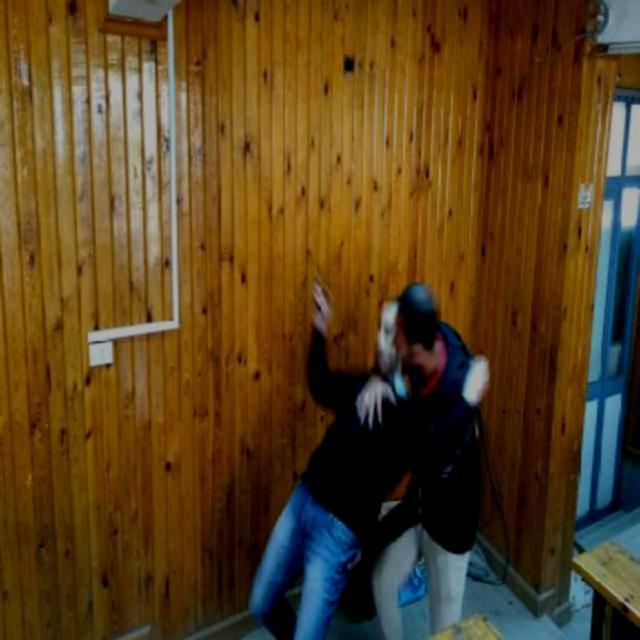fight: (252, 275, 492, 608)
